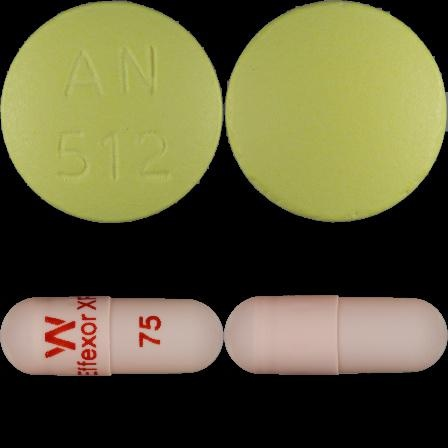55289-275: (0, 0, 224, 224)
